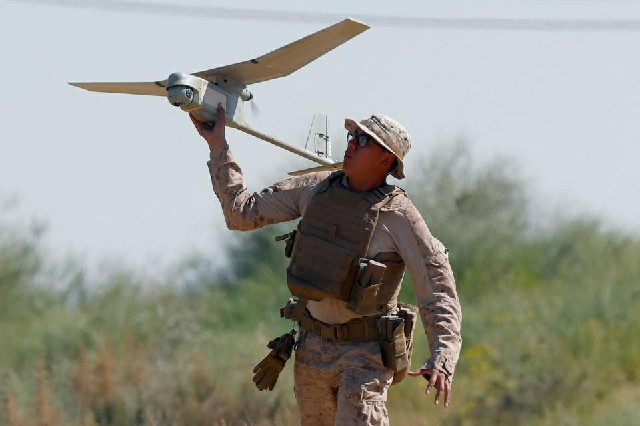maybay_khongnguoilai: (66, 18, 343, 175)
